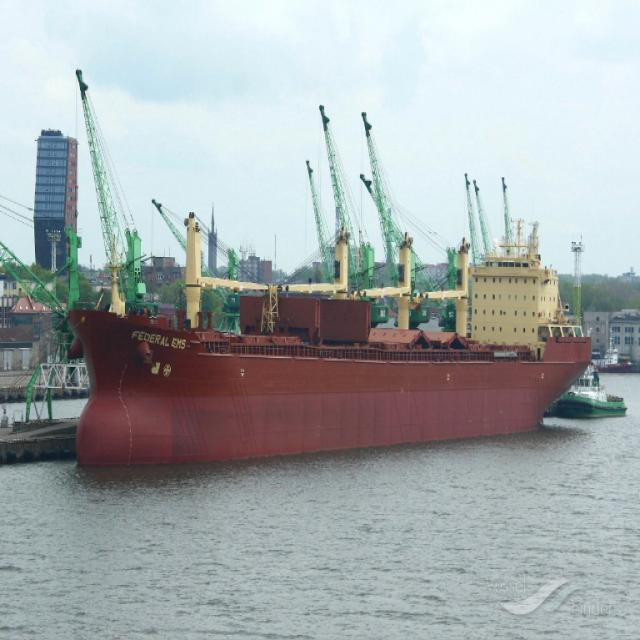OCR: (127, 320, 191, 350)
